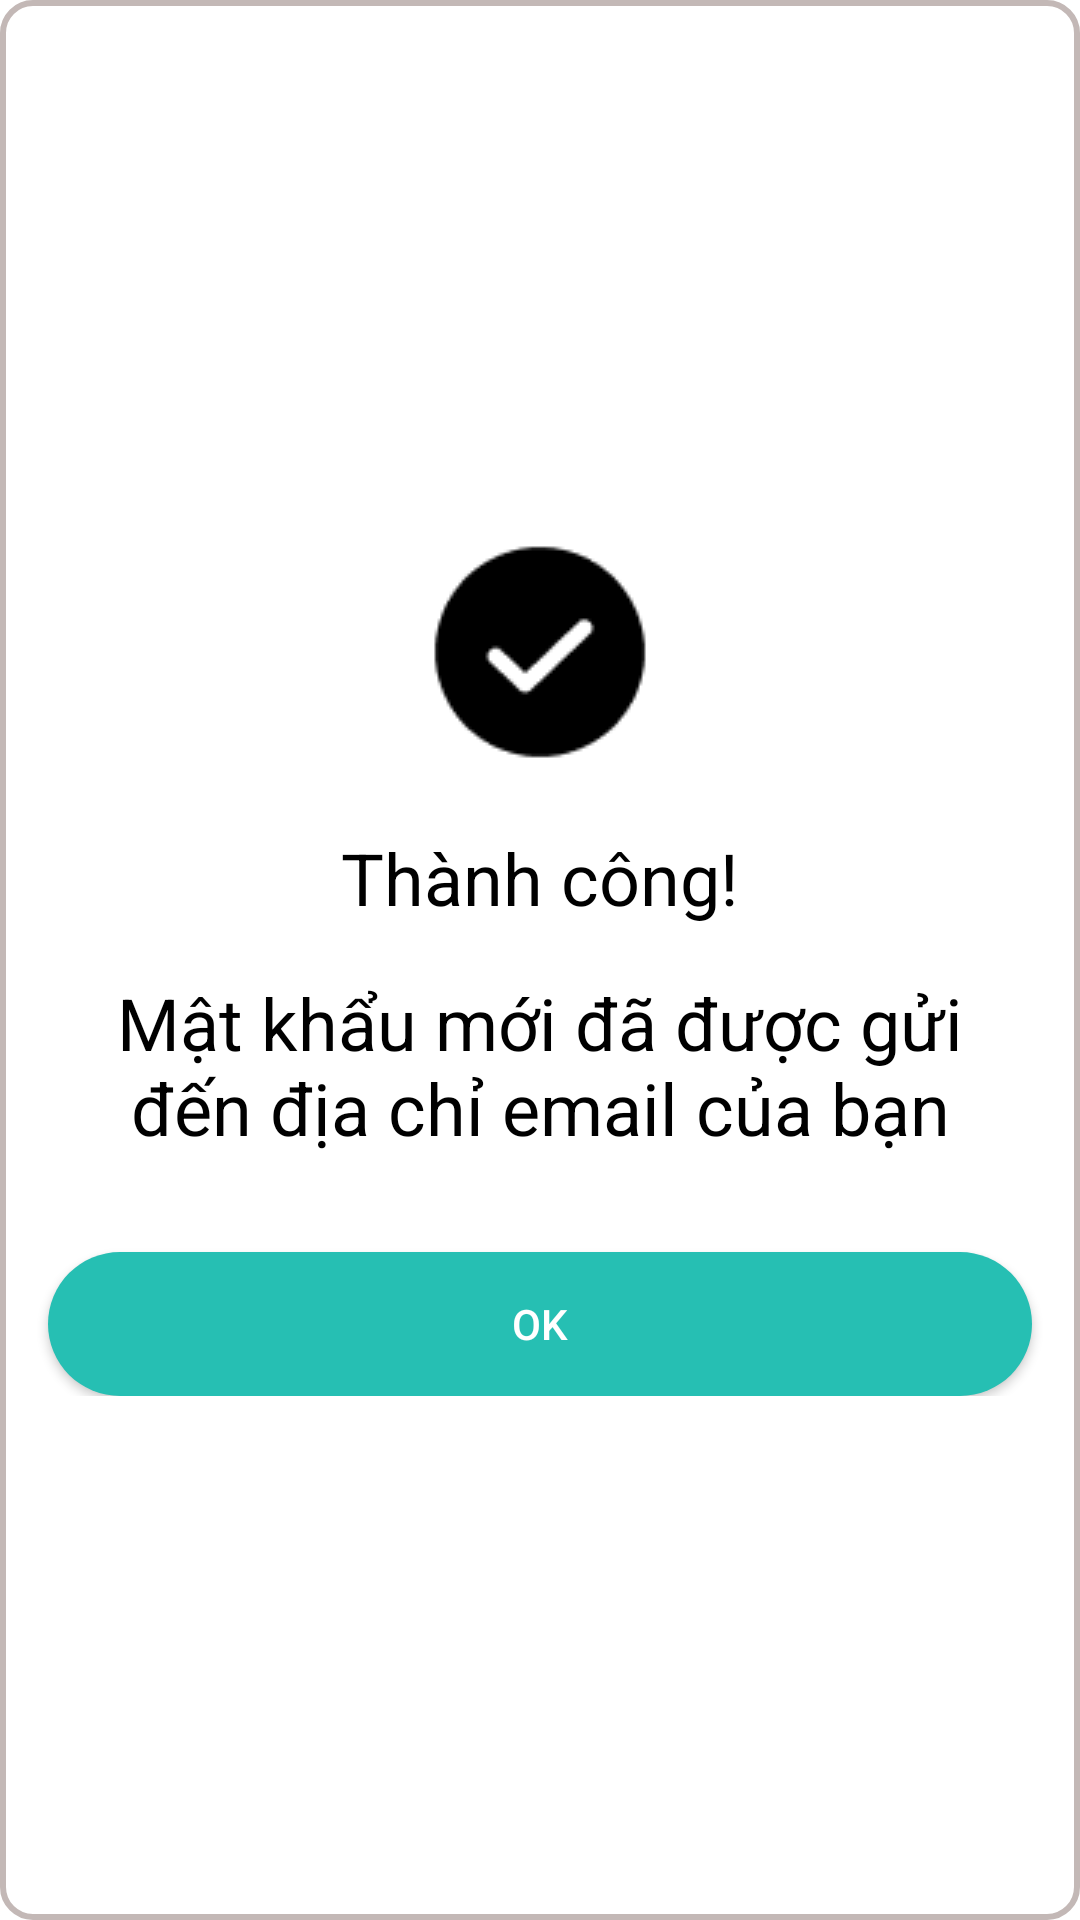

Icons on this 1080 × 1920 Android screen, each with its box as (x1, y1, x2, y2):
thanh cong: (434, 546, 646, 758)
